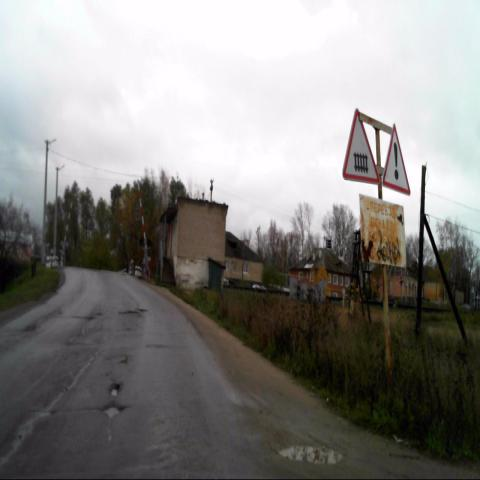1_1: (342, 107, 380, 185)
1_33: (381, 122, 411, 197)
